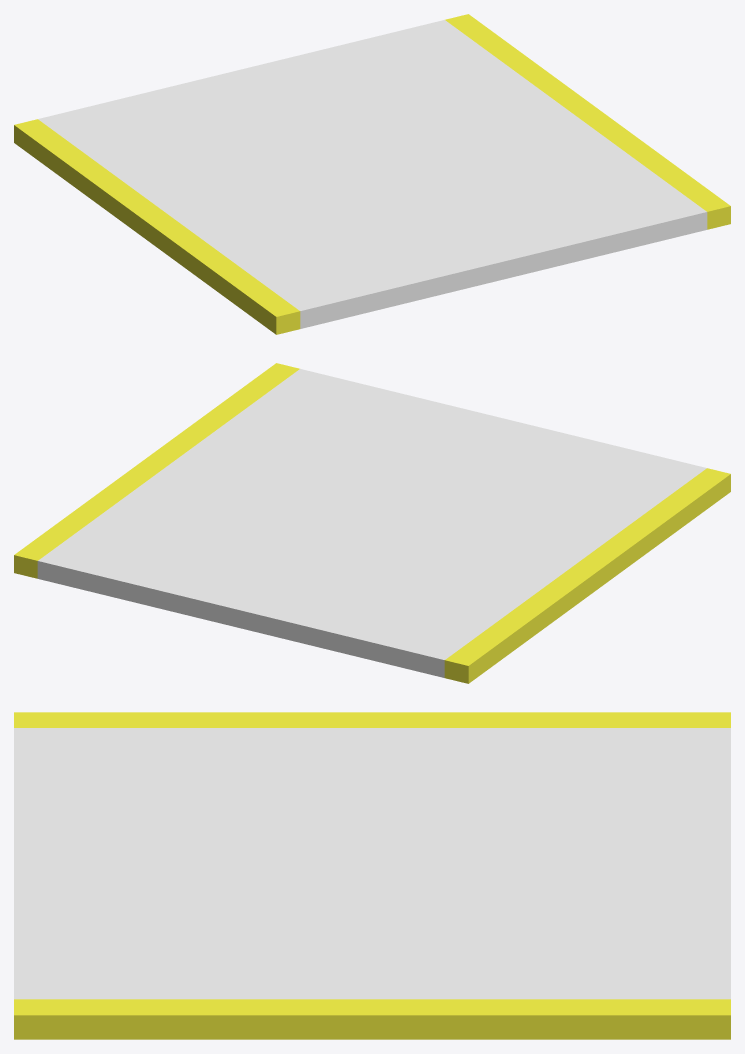
Rendered from Flr-Lane.fbx.
The picture shows the model from 3 angles, top to bottom: view 1: azimuth 30°, elevation 25°; view 2: azimuth 150°, elevation 25°; view 3: azimuth 270°, elevation 25°; orthographic projection. The views are drawn at different scales.
Visible parts, largest first — view 1: LaneTile; view 2: LaneTile; view 3: LaneTile.
Boxes of the visible parts, x1,y1,x2,y2 form: LaneTile: (14,14,730,334); LaneTile: (14,363,730,683); LaneTile: (14,712,730,1039).
Bounding box in the file's own units: 1.33 × 1.33 × 0.05.
